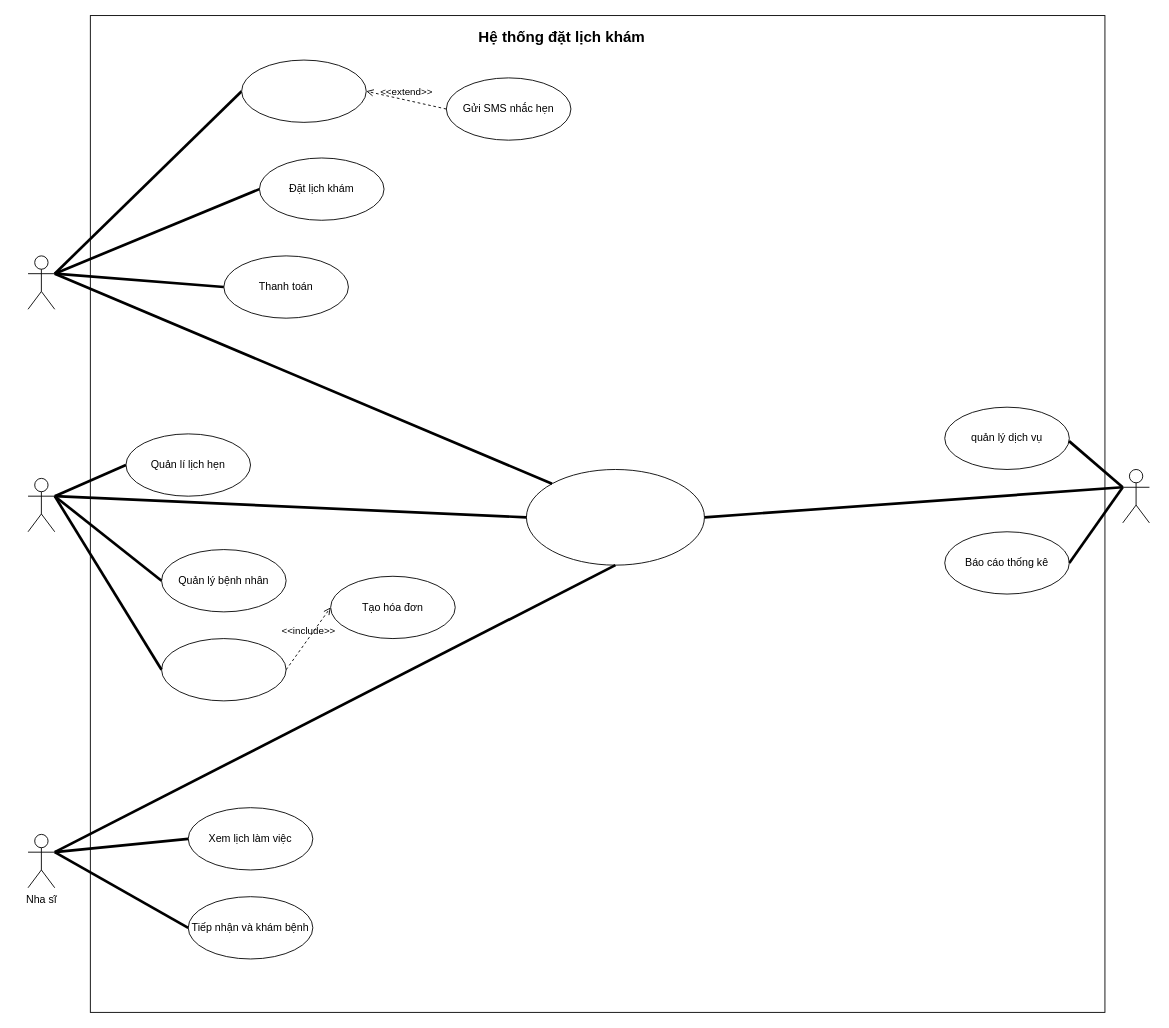
This 1169x1028 diagram has some shape labels left out. The shapes that lost their labels are listed below. From the top down, each one's box as (x1, y1, x2, y2) in pixels, then its label:
(241, 59, 366, 122): Xem hồ sơ cá nhân
(27, 255, 55, 309): Bệnh nhân
(27, 477, 55, 532): Lễ tân
(1122, 469, 1149, 523): Quản lý
(526, 469, 704, 565): Đăng nhập
(161, 638, 286, 701): Xác nhận thanh toán
